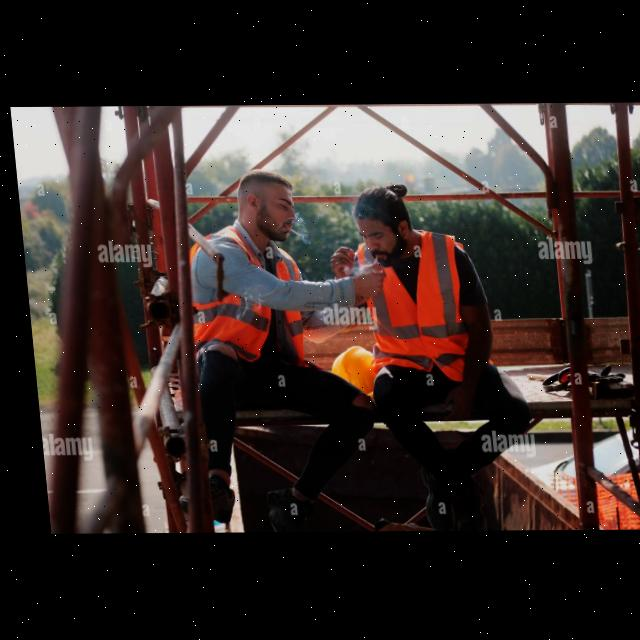cigarette: (281, 226, 296, 236), (368, 255, 374, 264)
